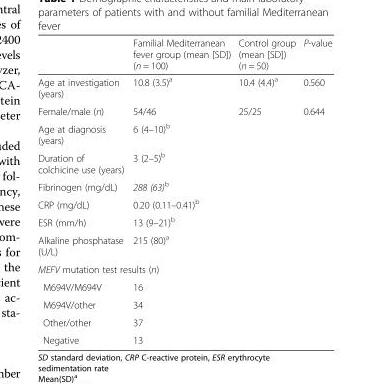table: (37, 36, 331, 345)
table column: (127, 36, 233, 345), (37, 36, 127, 345), (233, 36, 298, 345), (298, 36, 331, 345)
table column header: (37, 36, 331, 72)
table projected row header: (37, 260, 331, 277)
table row: (37, 36, 331, 72), (37, 72, 331, 102), (37, 118, 331, 148), (37, 230, 331, 260), (37, 148, 331, 177), (37, 194, 331, 212), (37, 212, 331, 230), (37, 277, 331, 295), (37, 295, 331, 313), (37, 177, 331, 194), (37, 260, 331, 277), (37, 313, 331, 330), (37, 102, 331, 118), (37, 330, 331, 345)
